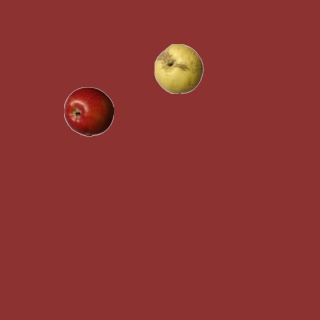Apple Braeburn: (63, 86, 113, 136)
Apple Golden 1: (153, 43, 203, 93)
